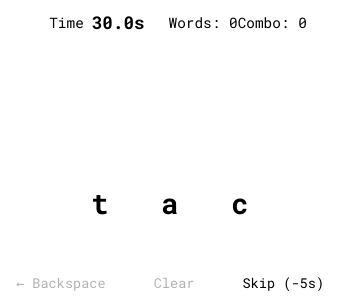
Test case: TimedMode - Game Simulation › clicking a letter adds it to the guess row
The image size is (339, 308).
Click the button "c": (240, 203) [209,172,271,234]
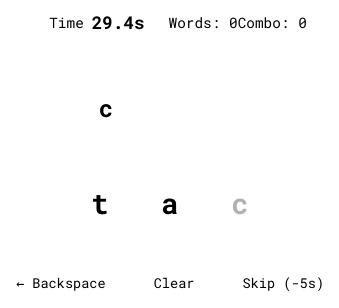
Result: the text with class "guess-slot" reads "c" at [99,92,113,124]
